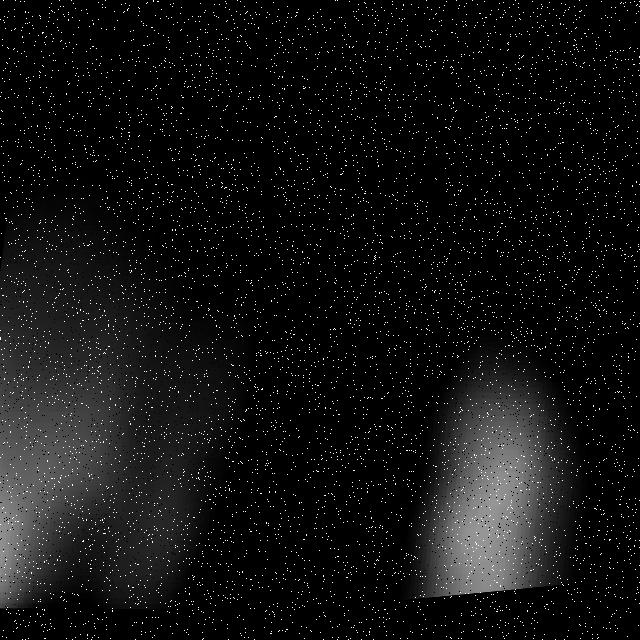person: (1, 170, 300, 636), (364, 300, 604, 613)
